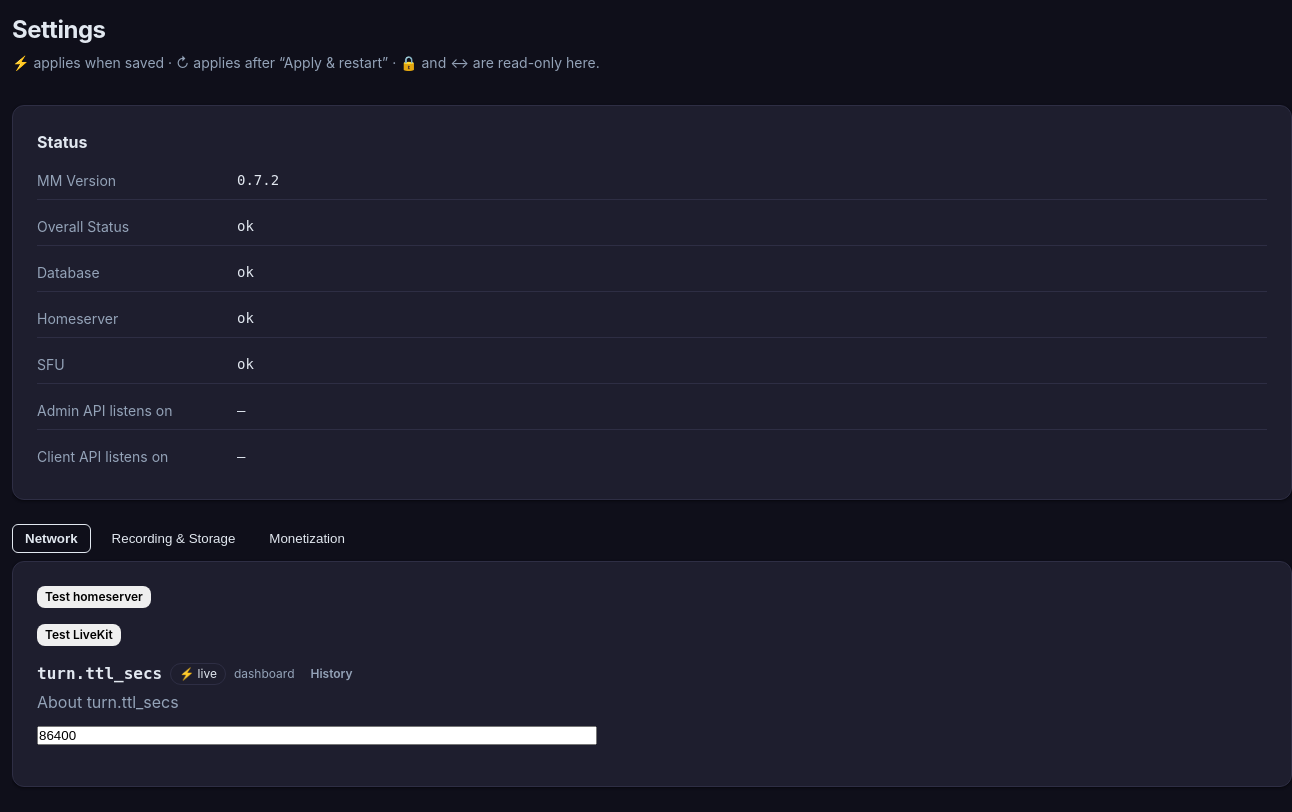
Test: SettingsPage › says when a saved change waits for a restart
Check: the tab "Network" is shown, box [12,524,91,553]
Click the tab "Recording & Storage" at (173, 538), box [99,524,248,553]
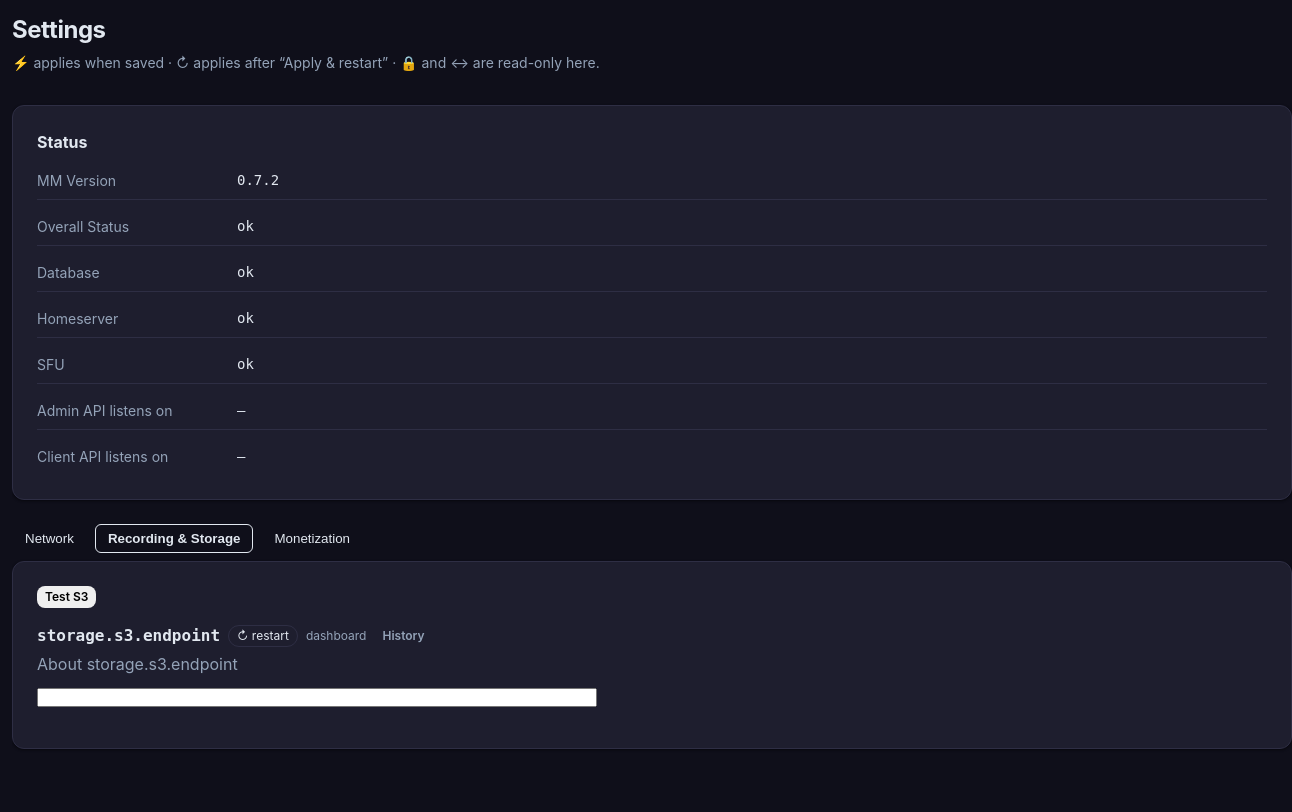
Type "https://s3.example" into the field labelled "storage.s3.endpoint" at (317, 698), box [37,688,597,707]
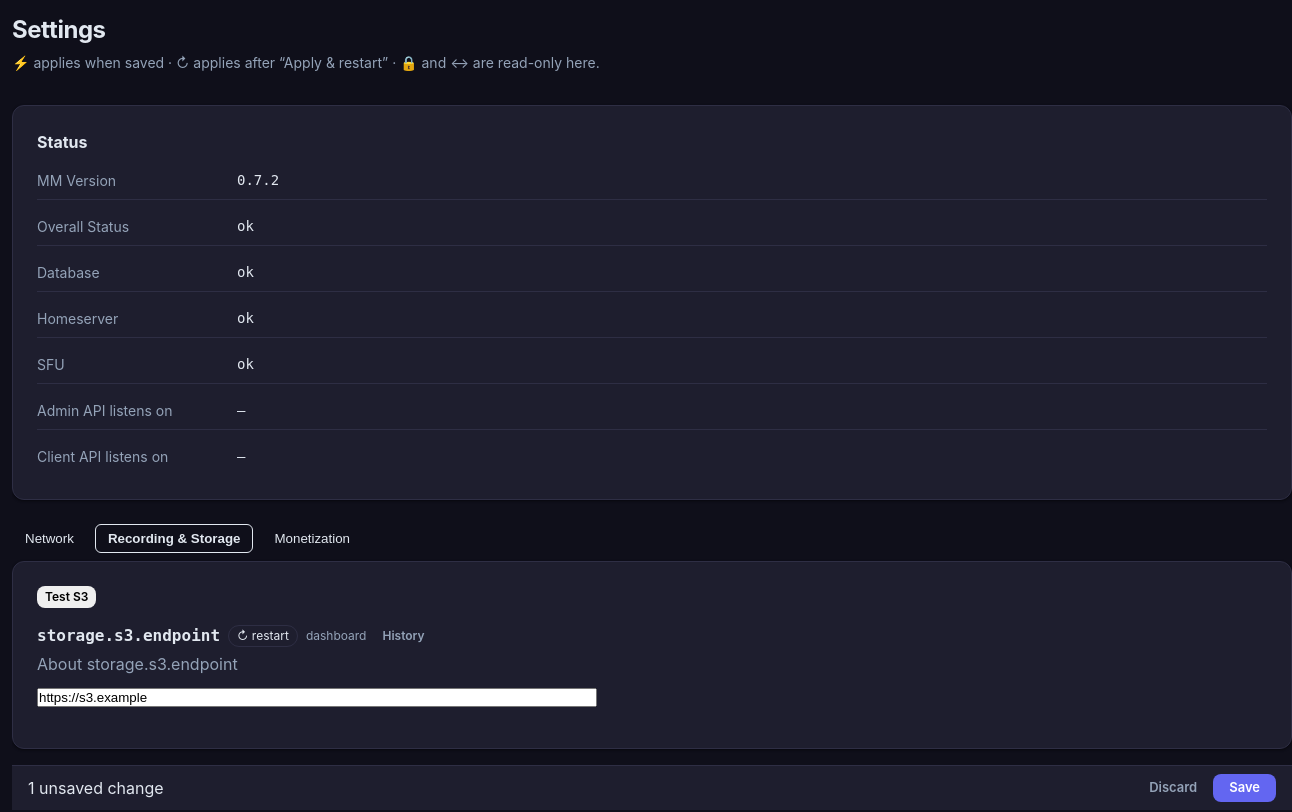
Click the button "Save" at (1245, 788), box [1213,774,1276,802]
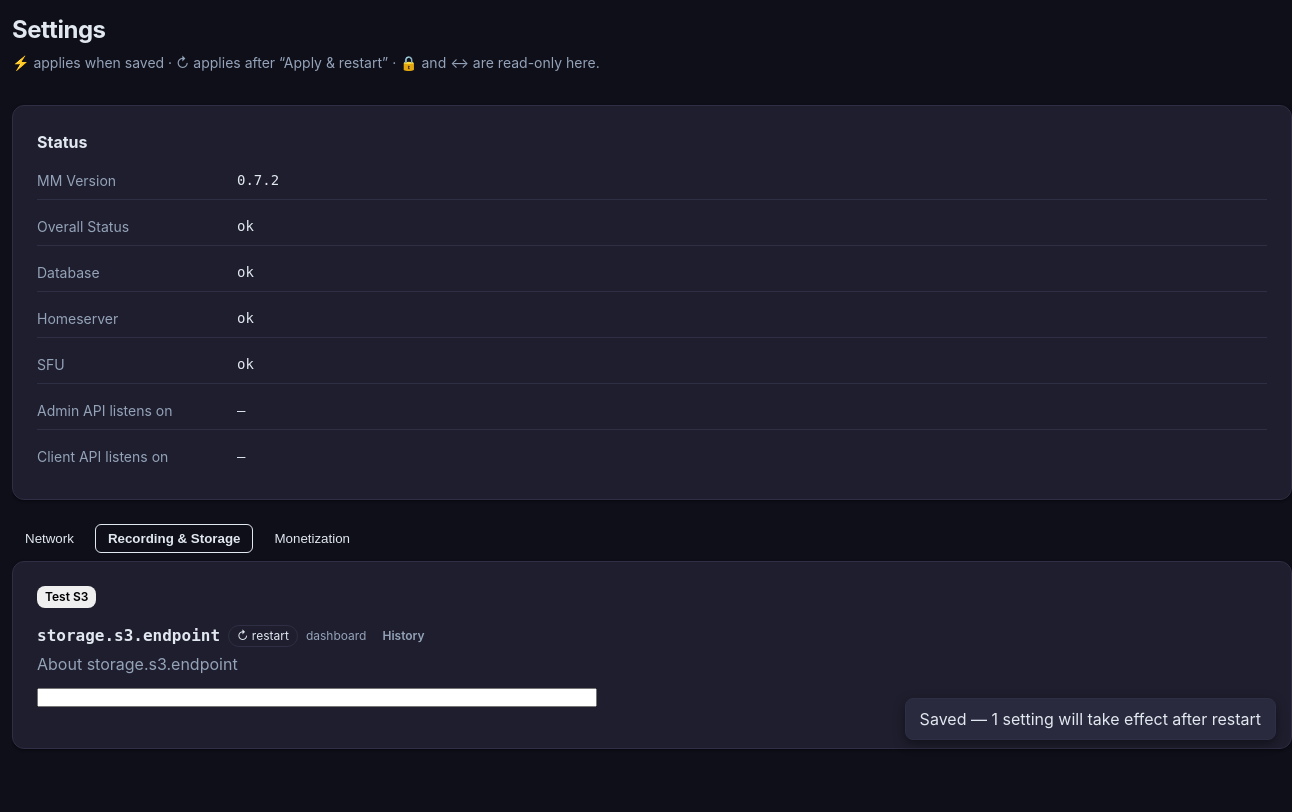
Check: the text "Saved — 1 setting will take effect after restart" is shown, box [905,698,1276,740]
